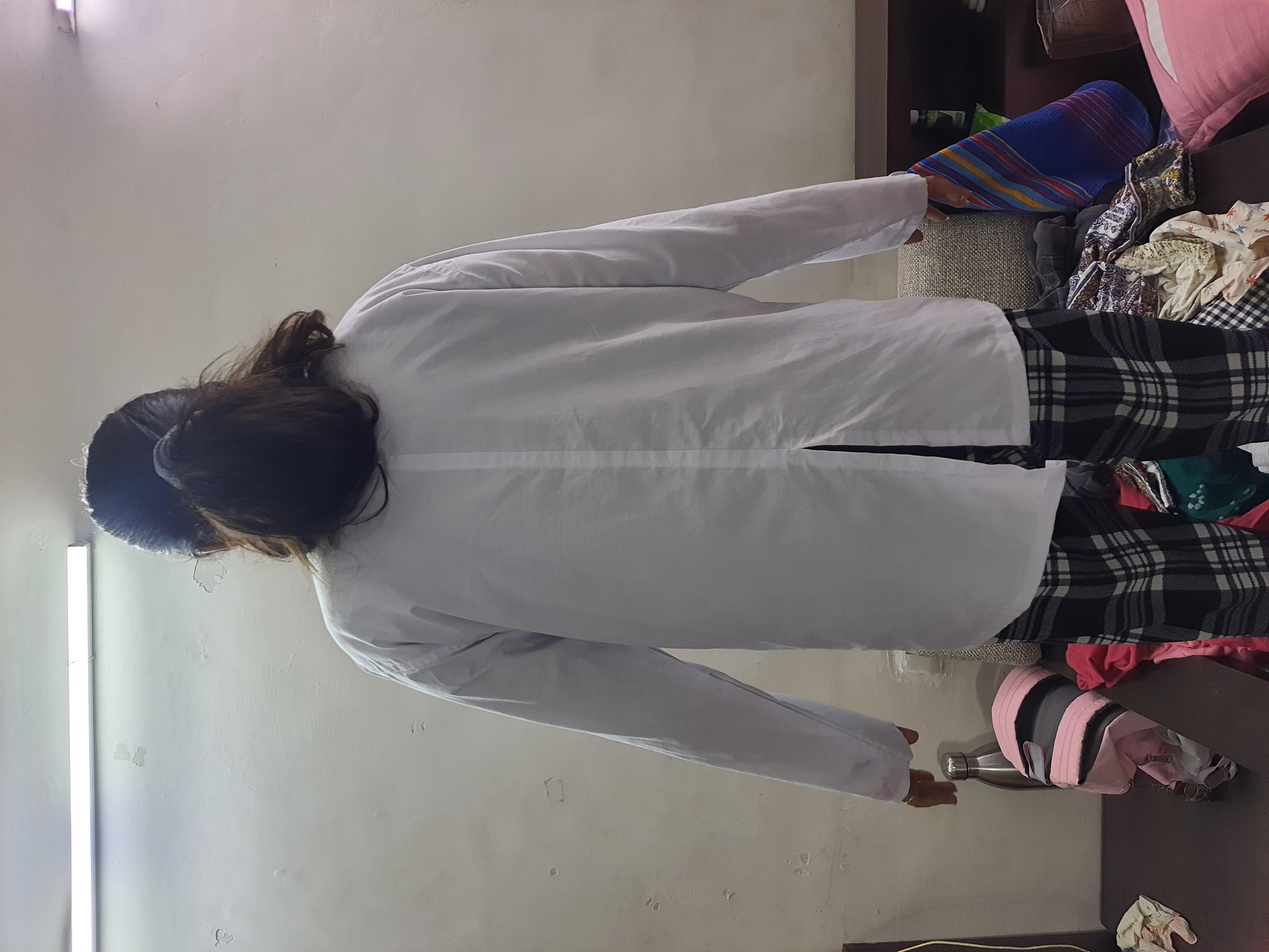Lab_coat: (201, 234, 1036, 799)
